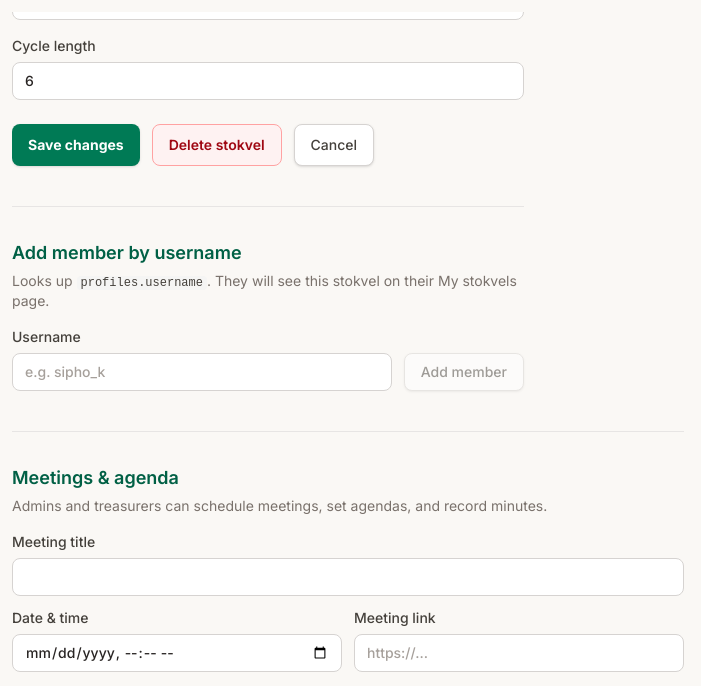
Test: AdminEditStokvel › Add Member › adds member successfully
(page scrolled)
Type "sipho" into the field with placeholder "e.g. sipho_k" at (202, 372), box x1=12 y1=353 x2=392 y2=391
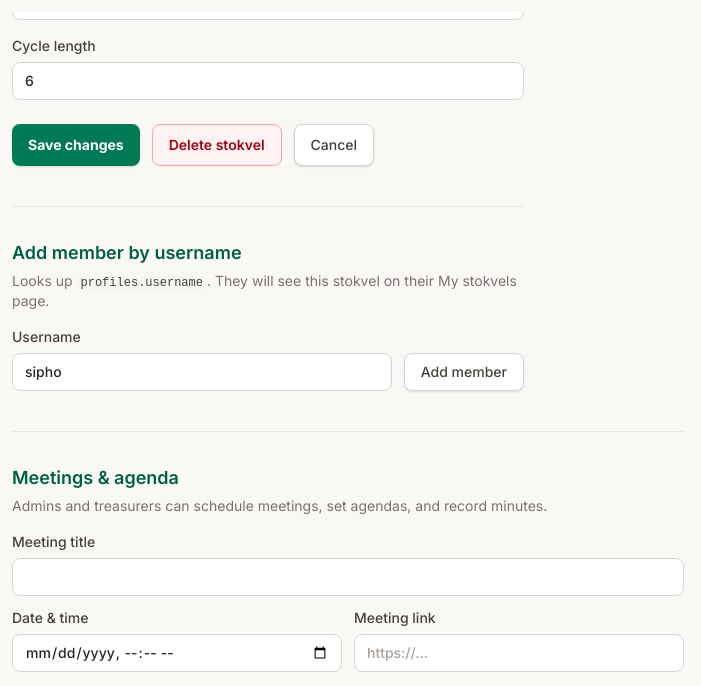
Click the button "Add member" at (464, 372), box x1=404 y1=353 x2=524 y2=391
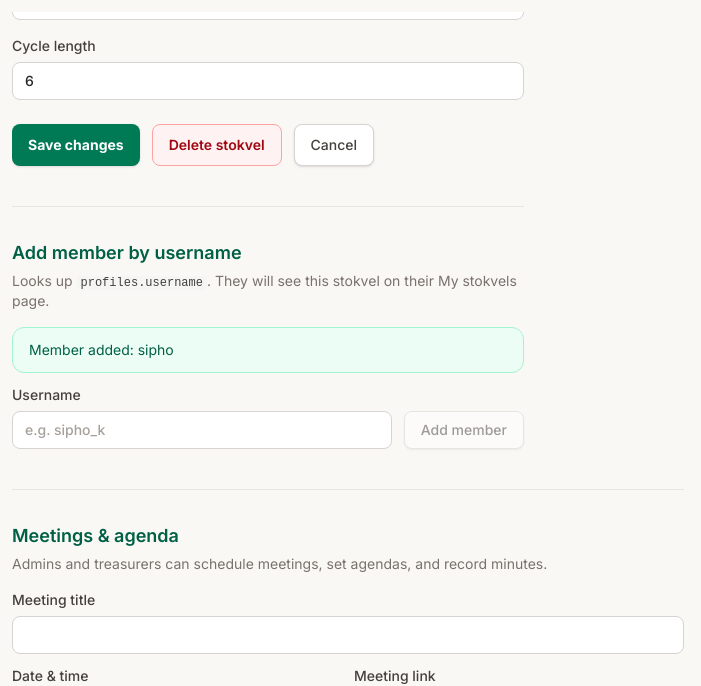
Expected: the text "Member added: sipho" is shown, x1=12 y1=327 x2=524 y2=373
Expected: the field with placeholder "e.g. sipho_k" is empty, x1=12 y1=411 x2=392 y2=449
